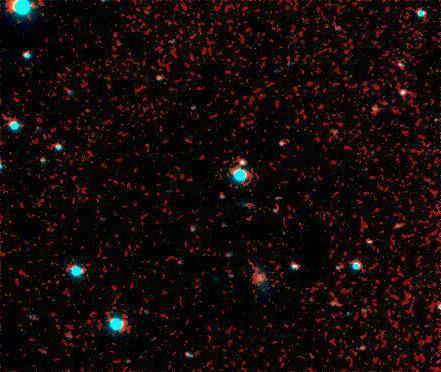star: (378, 208, 408, 238)
